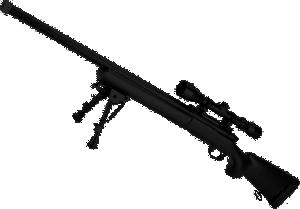sniper: (2, 9, 292, 208)
